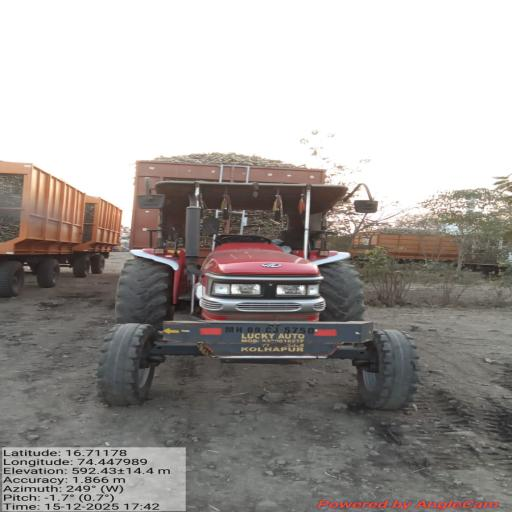number_plate: (205, 319, 332, 340)
